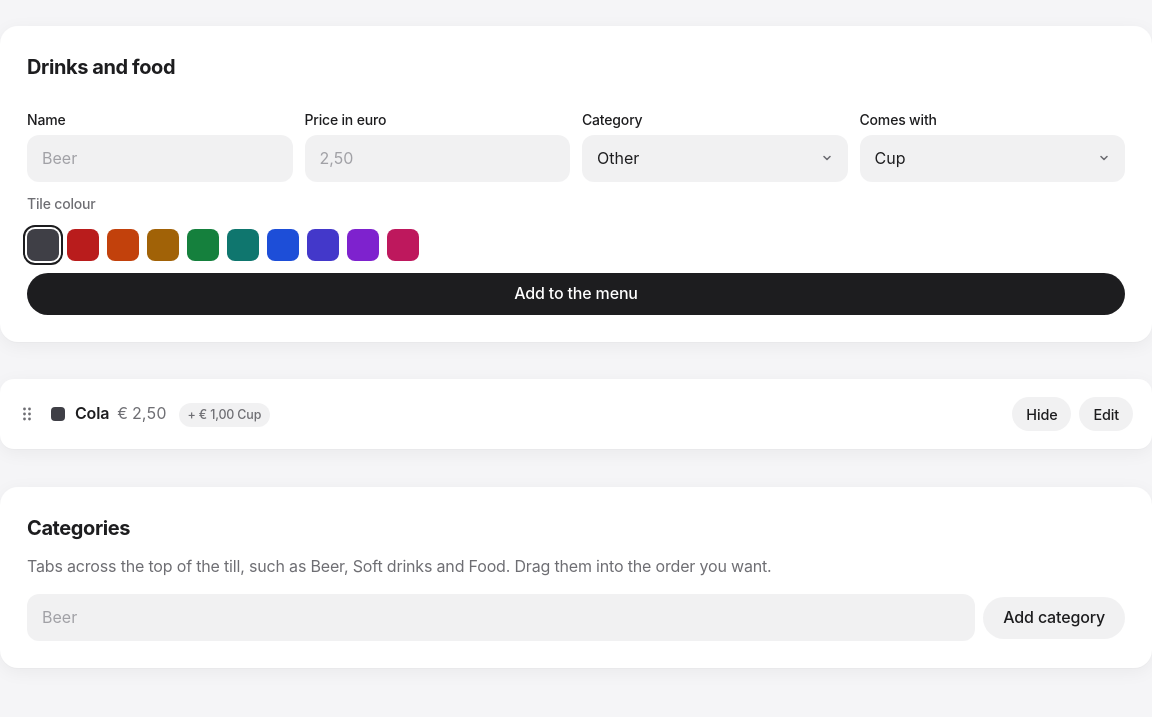
Test: ProductsTab › edits an item: name, price and the cup it comes with
Later steps or results of the test are not shown.
Click the button "Edit". click: (1106, 414)
box: x1=1080 y1=397 x2=1133 y2=431
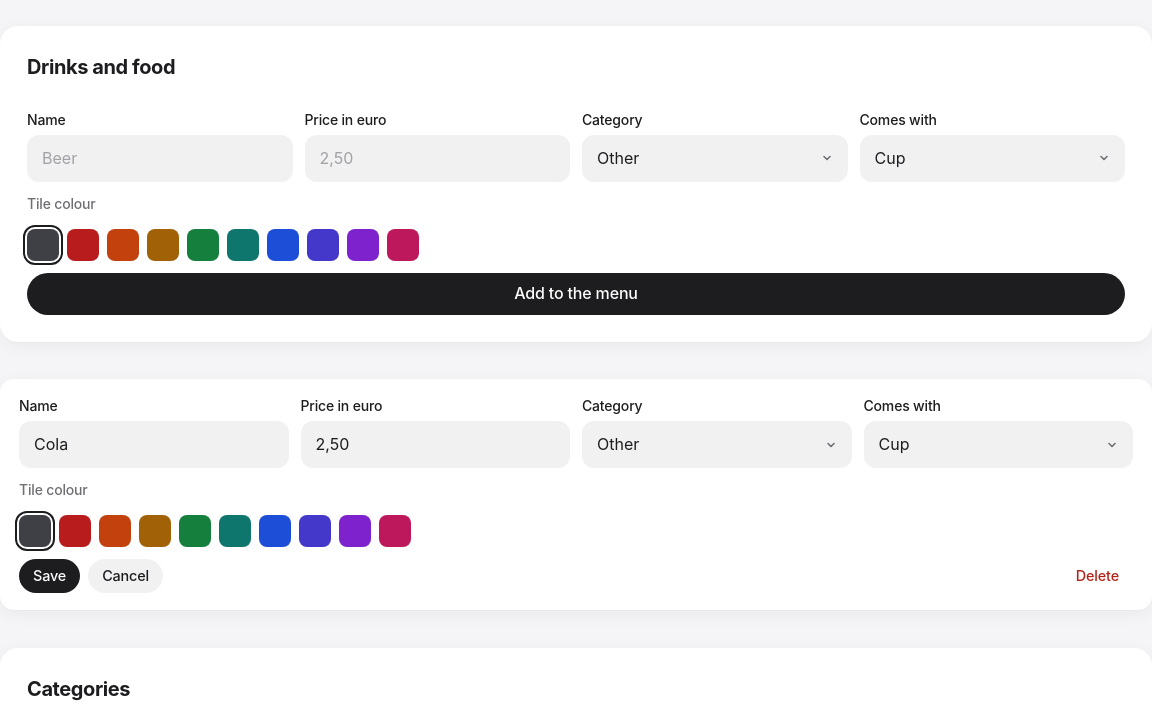
Result: the 2nd field labelled "Price in euro" holds "2,50" at x1=300 y1=421 x2=570 y2=468
